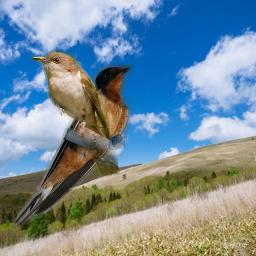Cuckoo: (30, 49, 120, 178)
Swallow: (8, 62, 135, 228)
